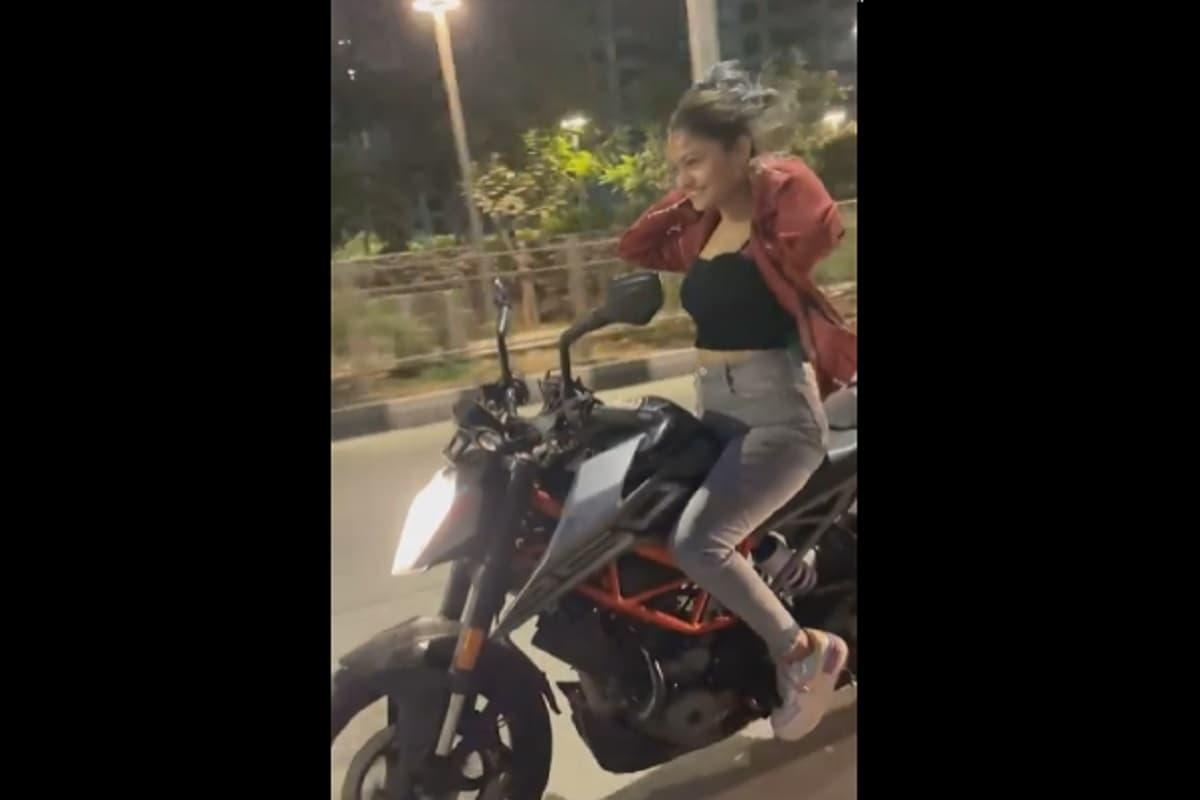nohelmet: (674, 50, 772, 233)
